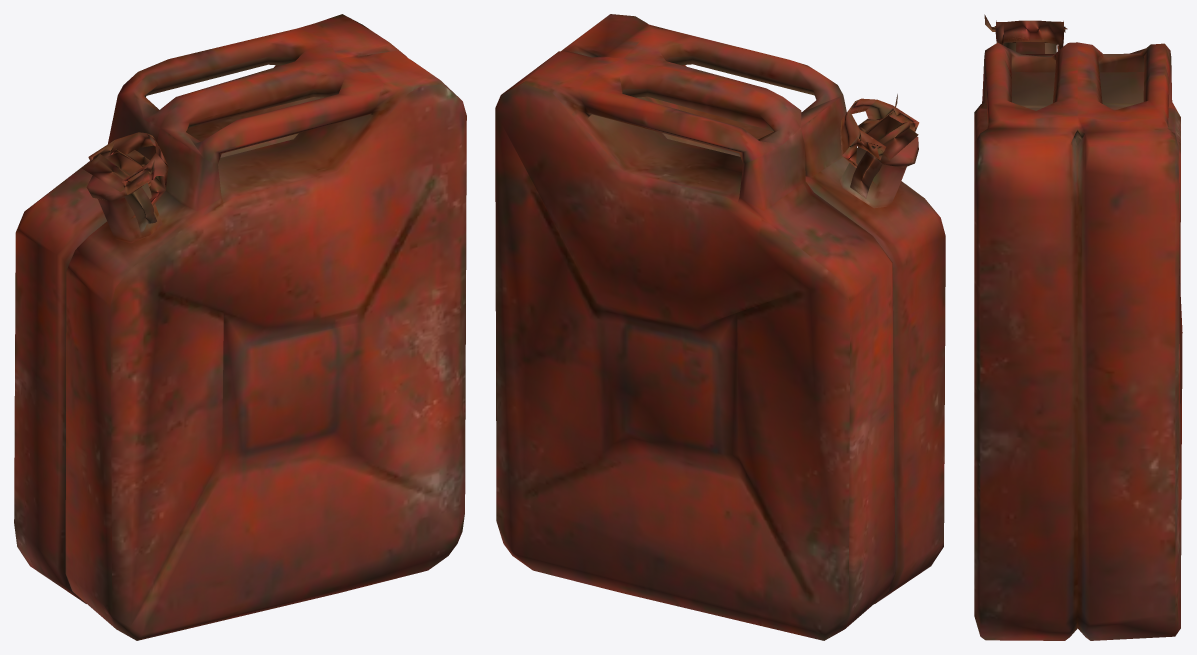
The model's file is g_jerry.glb.
3 renders of one model, left to right at view 1: azimuth 30°, elevation 25°; view 2: azimuth 150°, elevation 25°; view 3: azimuth 270°, elevation 25°, orthographic. The views are drawn at different scales.
Visible parts, largest first — view 1: metal_jerrycan; view 2: metal_jerrycan; view 3: metal_jerrycan.
Boxes of the visible parts, left/top/right/bottom form: metal_jerrycan: left=14, top=14, right=466, bottom=640; metal_jerrycan: left=495, top=14, right=945, bottom=640; metal_jerrycan: left=974, top=14, right=1182, bottom=640.
Bounding box in the file's own units: 0.3481 × 0.4535 × 0.1704.
Materials: 1 (1 with a texture image).
